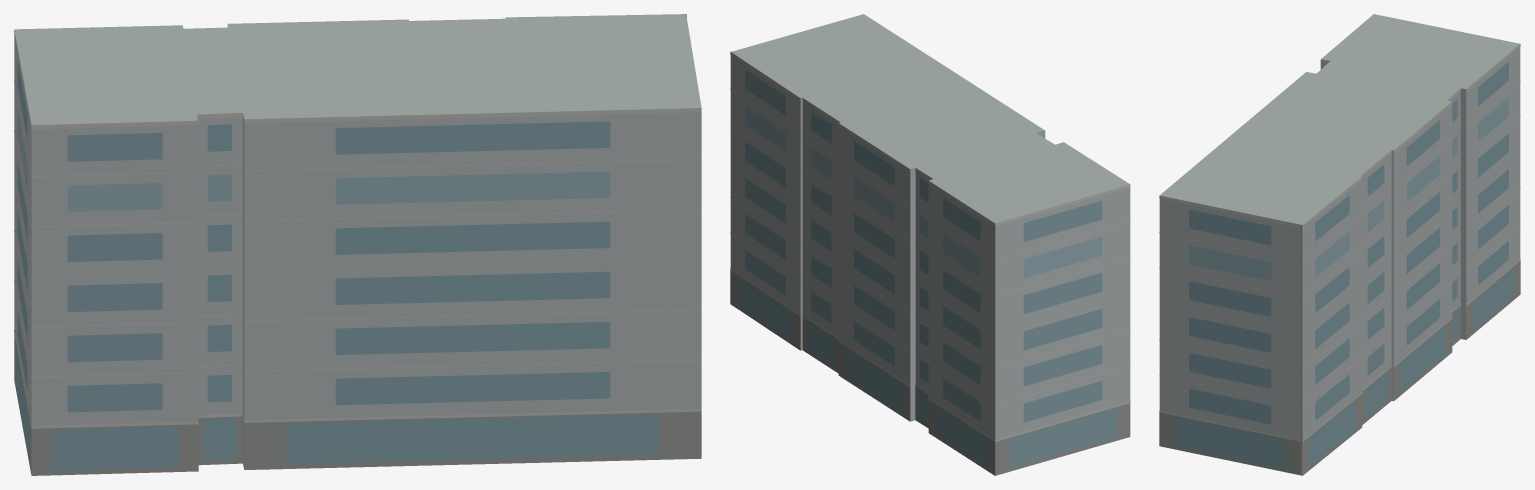
Rendered from survey-upis-32798457.glb.
3 views of the same model, side by side, from view 1: azimuth 30°, elevation 25°; view 2: azimuth 150°, elevation 25°; view 3: azimuth 270°, elevation 25° (orthographic). The views are drawn at different scales.
Visible parts, largest first — view 1: survey-upis-32798457.tmp; view 2: survey-upis-32798457.tmp; view 3: survey-upis-32798457.tmp.
Boxes of the visible parts, box(x1,y1,x2,y2) form: survey-upis-32798457.tmp: box(14, 14, 701, 475); survey-upis-32798457.tmp: box(730, 14, 1130, 475); survey-upis-32798457.tmp: box(1159, 14, 1520, 475).
Bounding box in the file's own units: 35.24 × 19.5 × 25.47.
